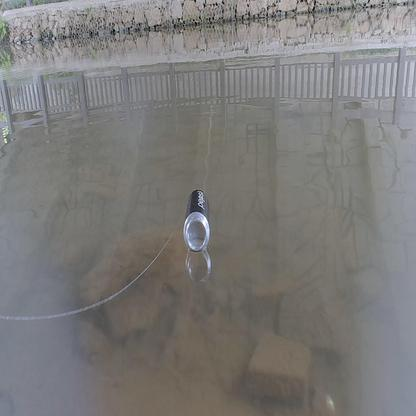can: (184, 188, 210, 253)
